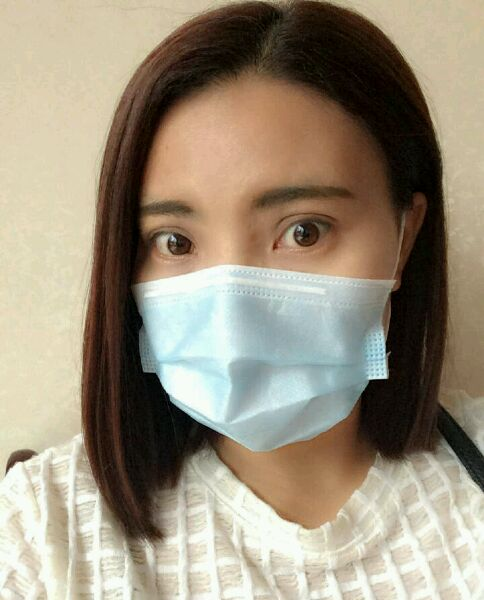face_mask: (138, 89, 392, 449)
